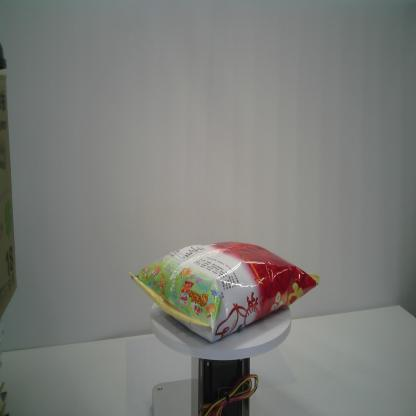Puffed Food: (128, 240, 321, 344)
